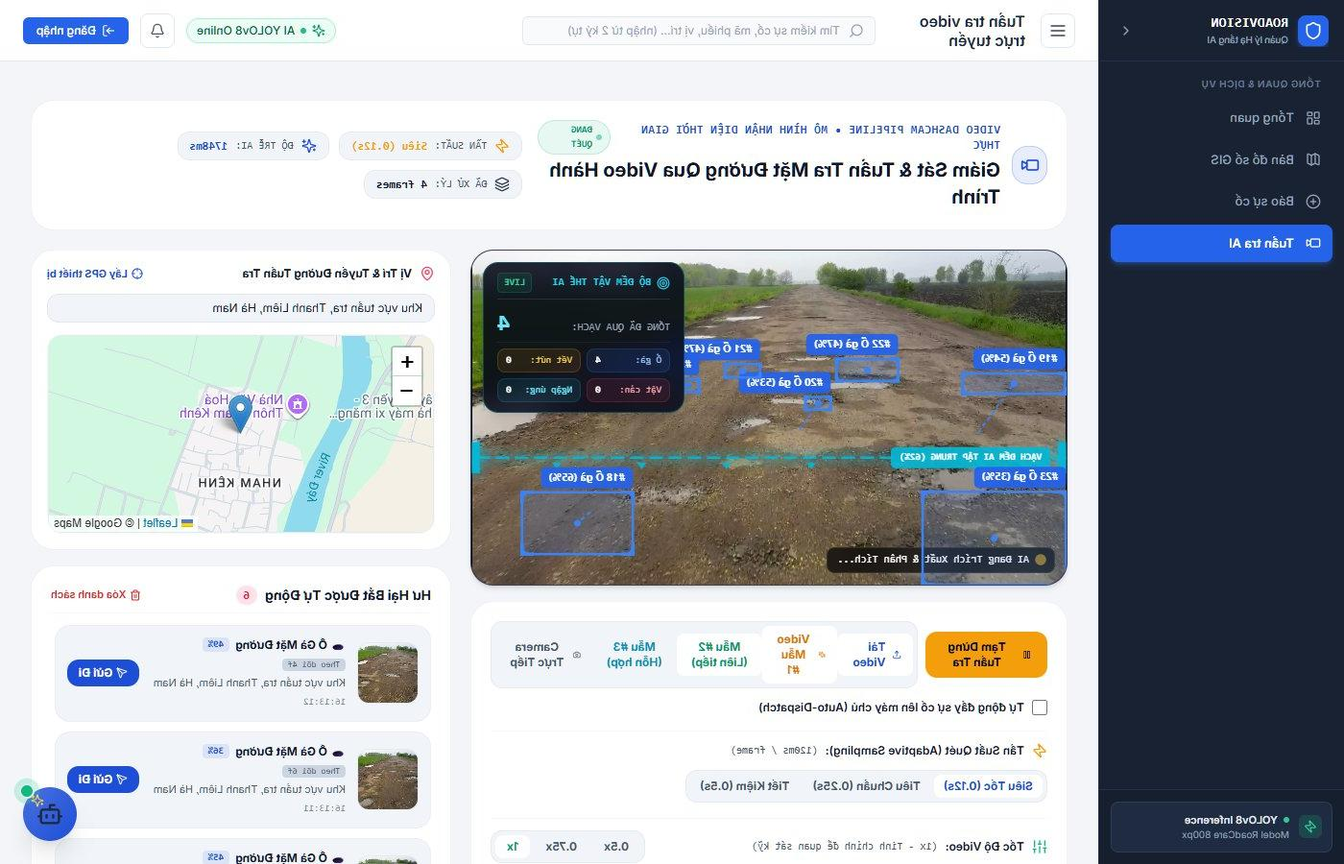POTHOLE: (558, 402, 948, 635)
